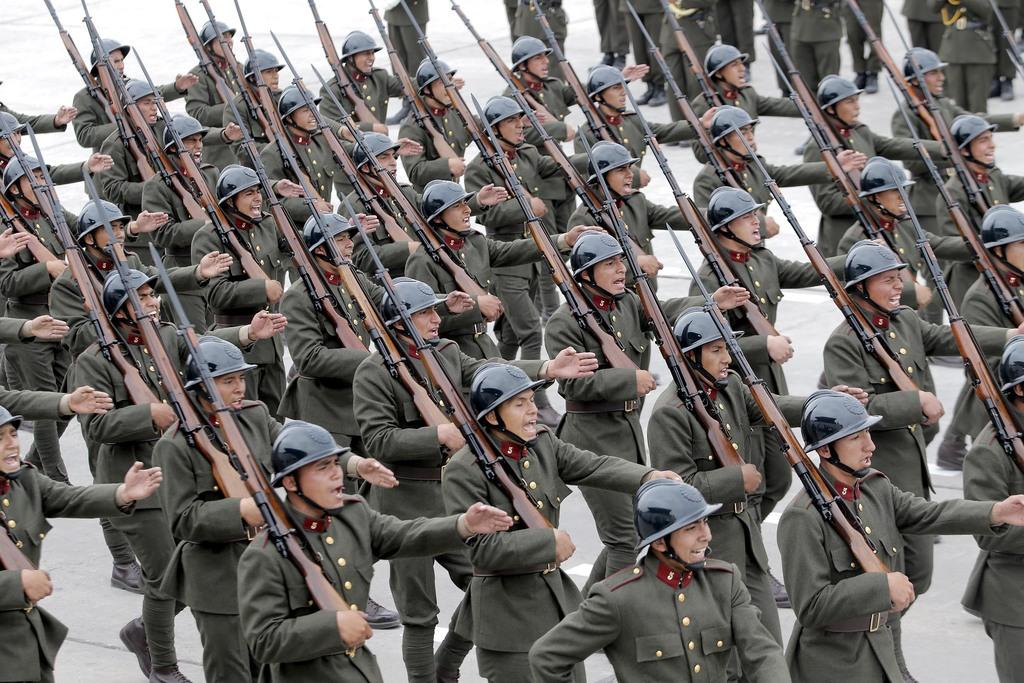Rifle: (0, 0, 1023, 609)
